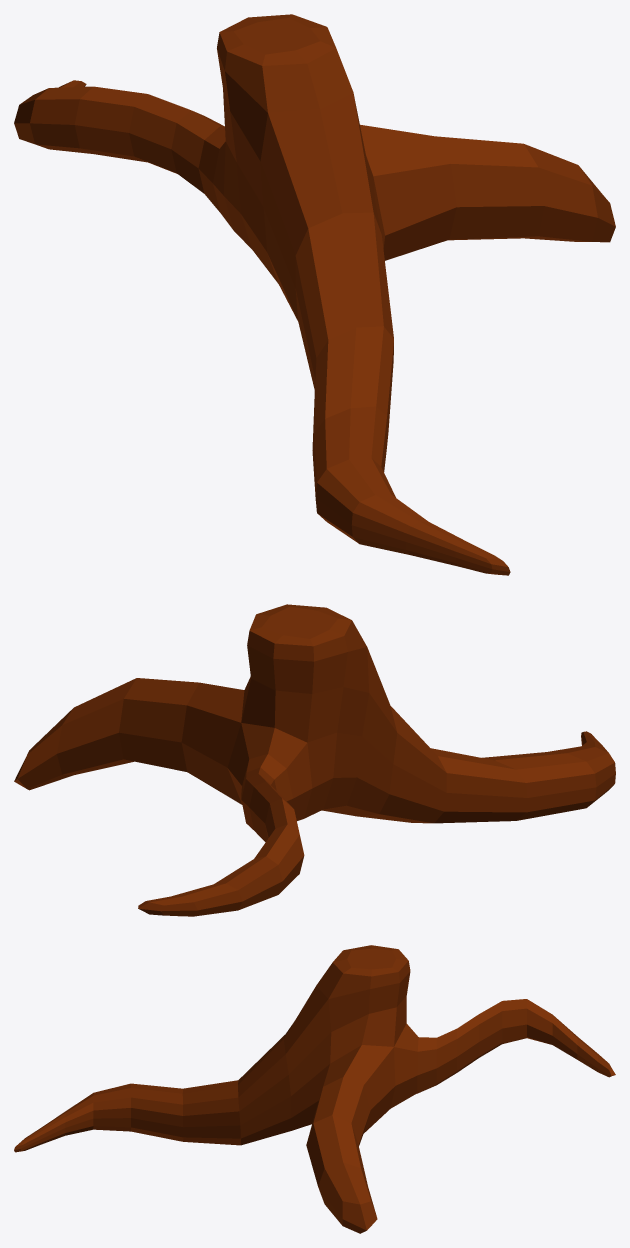
The model's file is TreeStump.fbx.
3 views of the same model, one above another, from view 1: azimuth 30°, elevation 25°; view 2: azimuth 150°, elevation 25°; view 3: azimuth 270°, elevation 25° (orthographic). The views are drawn at different scales.
Parts seen in each view (by area): view 1: Cube.002; view 2: Cube.002; view 3: Cube.002.
Boxes of the visible parts, x1,y1,x2,y2 form: Cube.002: [14, 14, 615, 575]; Cube.002: [14, 604, 615, 916]; Cube.002: [14, 945, 615, 1233].
Bounding box in the file's own units: 476 × 310 × 811.
